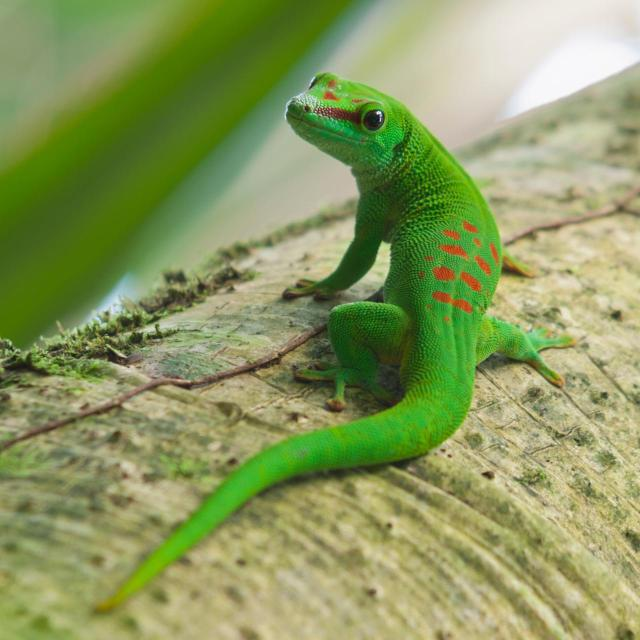Lizard: (118, 60, 569, 589)
